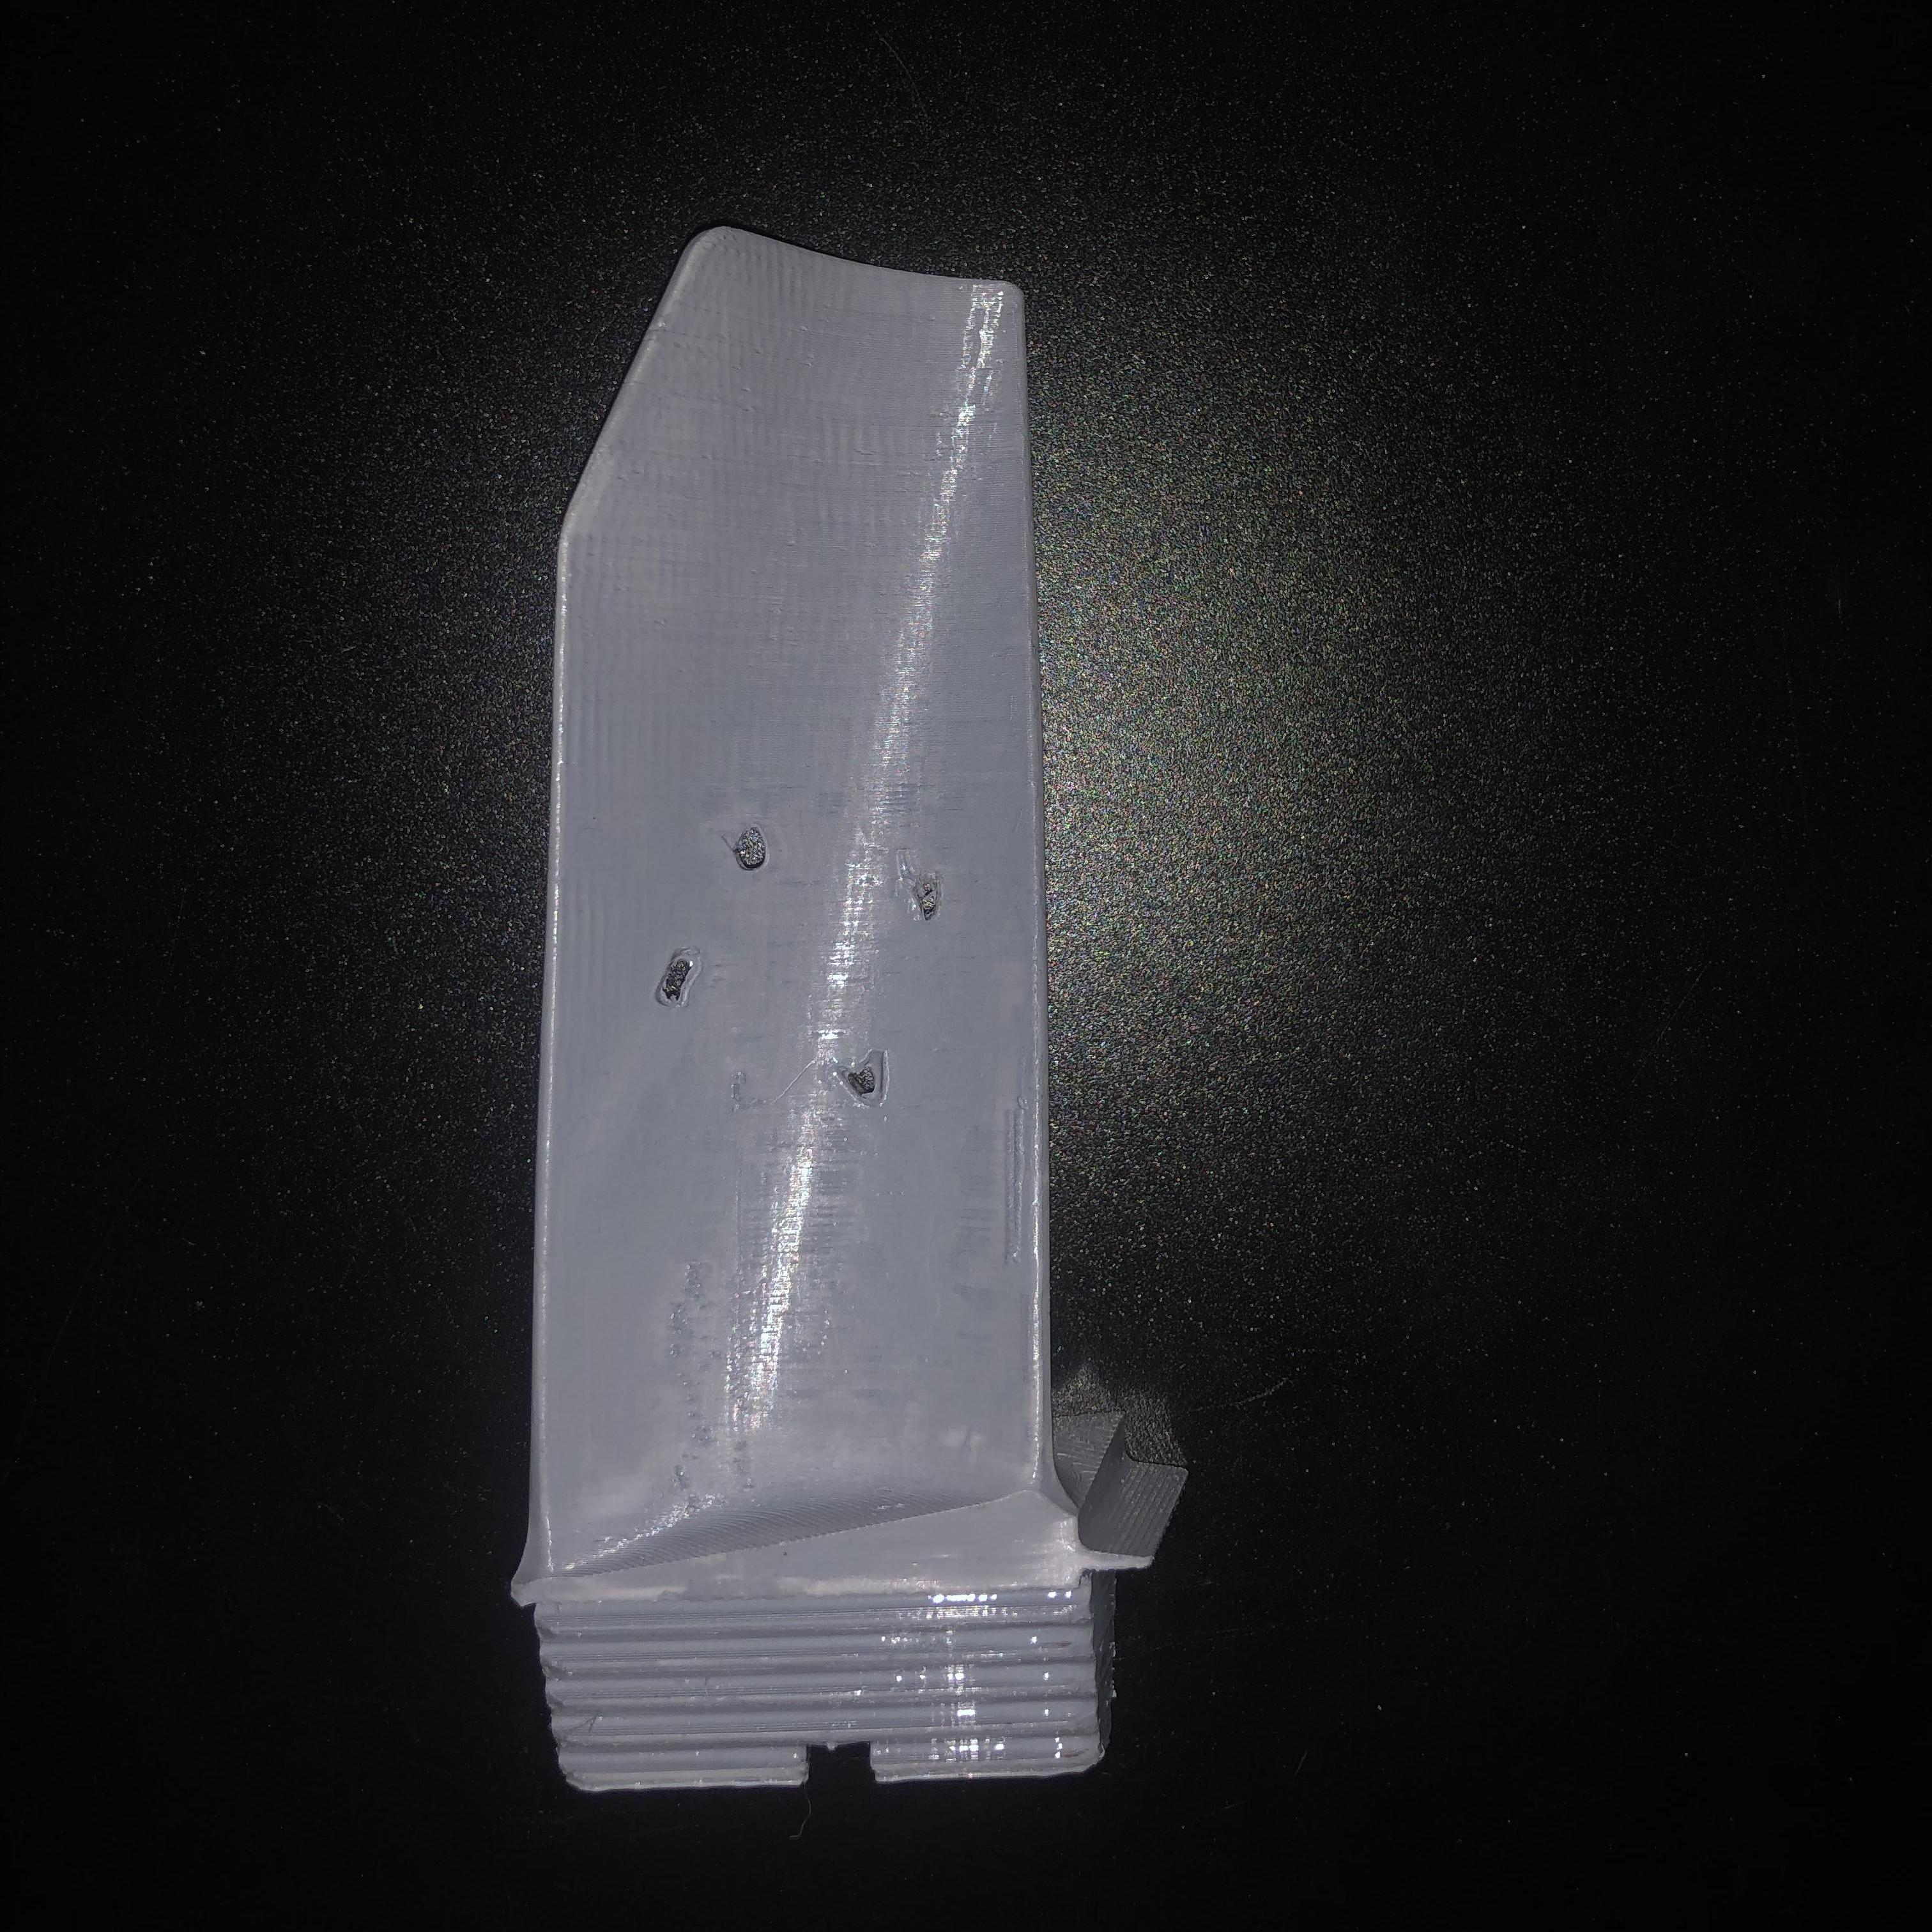breakdown: (662, 830, 938, 1102)
